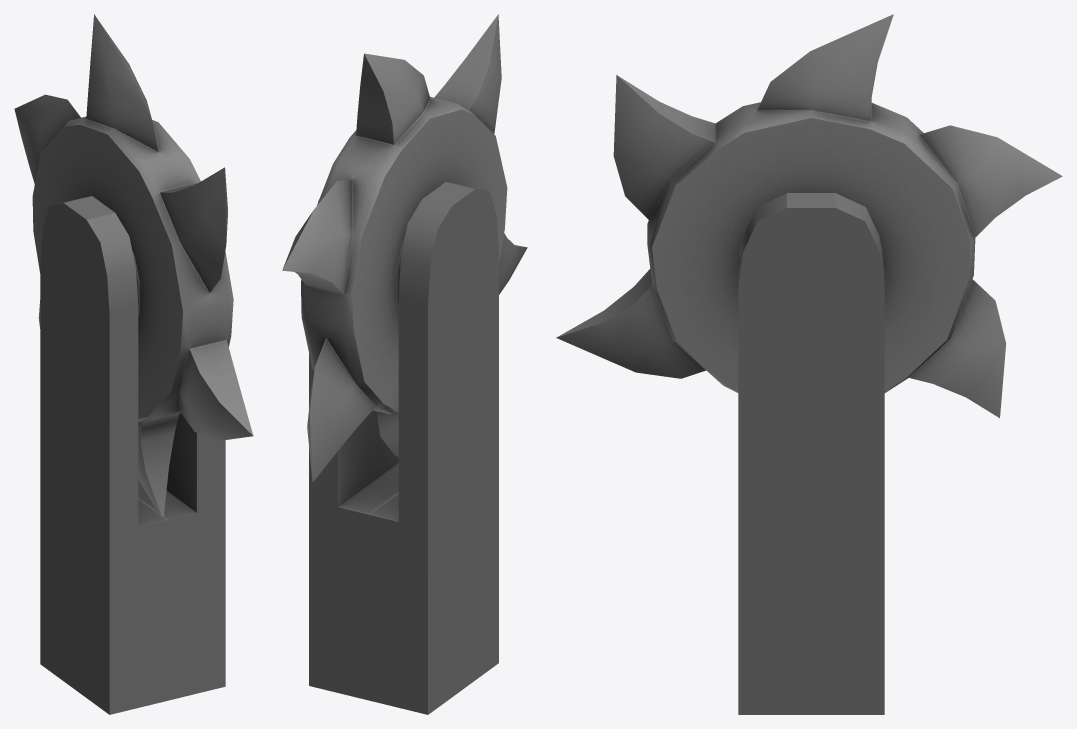
File: decoSaw.fbx
The picture shows the model from 3 angles, left to right: view 1: azimuth 30°, elevation 25°; view 2: azimuth 150°, elevation 25°; view 3: azimuth 270°, elevation 25°; orthographic projection. The views are drawn at different scales.
Parts seen in each view (by area): view 1: decoSaw_support, decoSaw_blade; view 2: decoSaw_support, decoSaw_blade; view 3: decoSaw_blade, decoSaw_support.
Boxes of the visible parts, x1=… form: decoSaw_support: x1=40, y1=196, x2=225, y2=714; decoSaw_blade: x1=14, y1=14, x2=253, y2=516; decoSaw_support: x1=309, y1=182, x2=498, y2=714; decoSaw_blade: x1=282, y1=14, x2=527, y2=482; decoSaw_blade: x1=556, y1=14, x2=1062, y2=417; decoSaw_support: x1=738, y1=193, x2=884, y2=714.
Bounding box in the file's own units: 0.6062 × 3.16 × 2.16.
